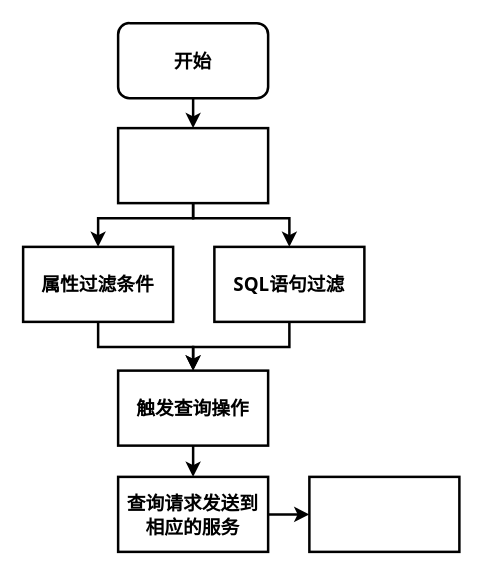
Some shapes in this 481 by 574 pixel diagram are drawn without their labels. Each missing label, with the box of its shape:
返回查询结果: (308, 475, 460, 552)
选择要查询的图层: (116, 126, 269, 204)
